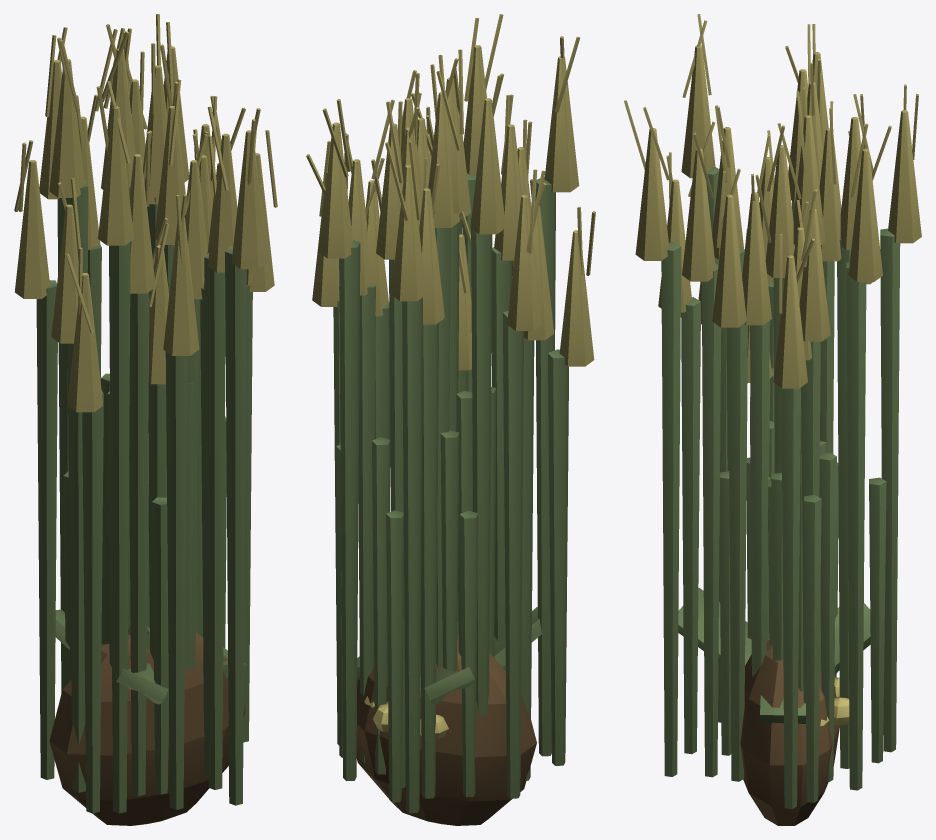
File: crop_lingsui_wheat.glb
3 renders of one model, left to right at view 1: azimuth 30°, elevation 25°; view 2: azimuth 150°, elevation 25°; view 3: azimuth 270°, elevation 25°, orthographic. The views are drawn at different scales.
Parts seen in each view (by area): view 1: seed_mound, stem.014, stem.018, stem.019, stem.015, stem.011, stem.016, stem.013, stem.012, stem2.011, ear.011, ear.014 (+32 smaller); view 2: seed_mound, stem.003, stem.007, stem.011, stem.010, stem.006, stem.013, stem.014, stem.001, stem2.004, stem.015, stem2.001 (+33 smaller); view 3: stem.018, stem.003, seed_mound, stem.007, stem.019, stem.016, stem.020, stem.023, stem.021, stem.004, stem2, stem2.004 (+33 smaller).
Part boxes in pixels (<box>): seed_mound: <box>49,628,245,825</box>; stem.014: <box>109,242,130,813</box>; stem.018: <box>225,246,246,805</box>; stem.019: <box>204,253,225,789</box>; stem.015: <box>129,292,149,796</box>; stem.011: <box>36,280,57,779</box>; stem.016: <box>165,351,187,809</box>; stem.013: <box>82,390,103,813</box>; stem.012: <box>68,343,85,792</box>; stem2.011: <box>152,497,168,794</box>; ear.011: <box>15,160,50,298</box>; ear.014: <box>98,106,133,245</box>; seed_mound: <box>356,639,536,825</box>; stem.003: <box>339,240,360,781</box>; stem.007: <box>402,297,422,813</box>; stem.011: <box>502,310,523,798</box>; stem.010: <box>471,217,492,715</box>; stem.006: <box>420,322,439,798</box>; stem.013: <box>548,349,568,765</box>; stem.014: <box>535,177,555,756</box>; stem.001: <box>358,285,376,762</box>; stem2.004: <box>386,510,403,802</box>; stem.015: <box>491,247,512,670</box>; stem2.001: <box>372,437,390,774</box>; stem.018: <box>661,242,681,776</box>; stem.003: <box>846,262,866,790</box>; seed_mound: <box>740,640,839,825</box>; stem.007: <box>880,228,900,752</box>; stem.019: <box>701,263,721,777</box>; stem.016: <box>681,297,700,754</box>; stem.020: <box>728,323,747,781</box>; stem.023: <box>781,387,800,808</box>; stem.021: <box>750,320,769,677</box>; stem.004: <box>837,239,851,768</box>; stem2: <box>804,495,821,802</box>; stem2.004: <box>869,477,886,763</box>.
Bounding box in the file's own units: 0.3927 × 1.22 × 0.4302.
